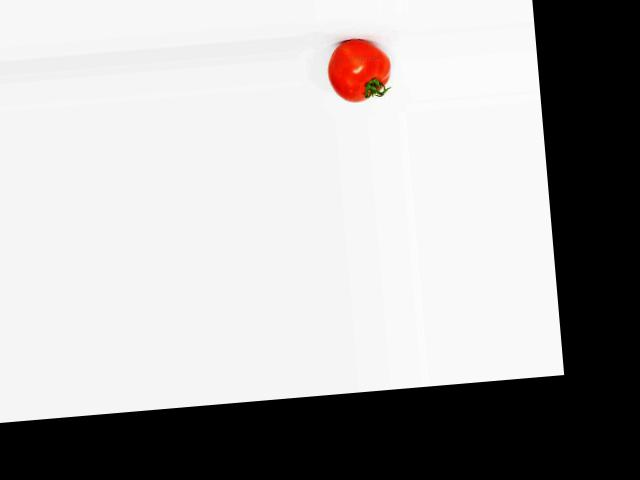tomato: (325, 36, 392, 104)
